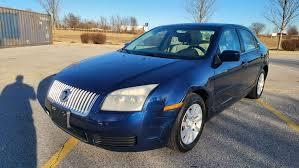Mercury: (56, 84, 77, 109)
